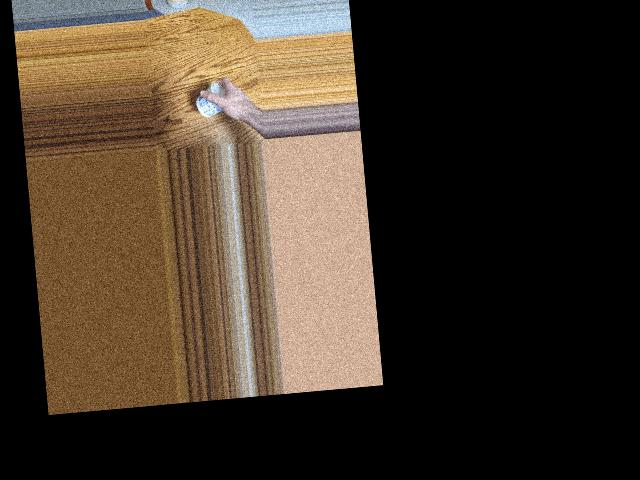cotage: (193, 80, 227, 121)
